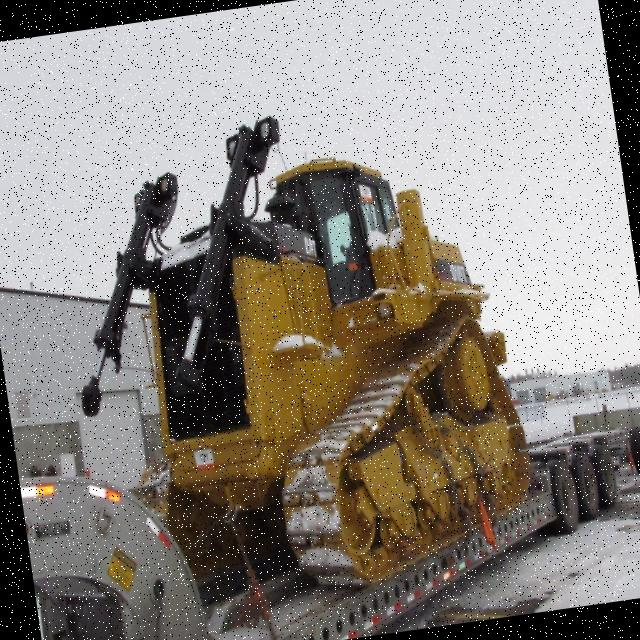Bulldozer: (70, 93, 556, 625)
